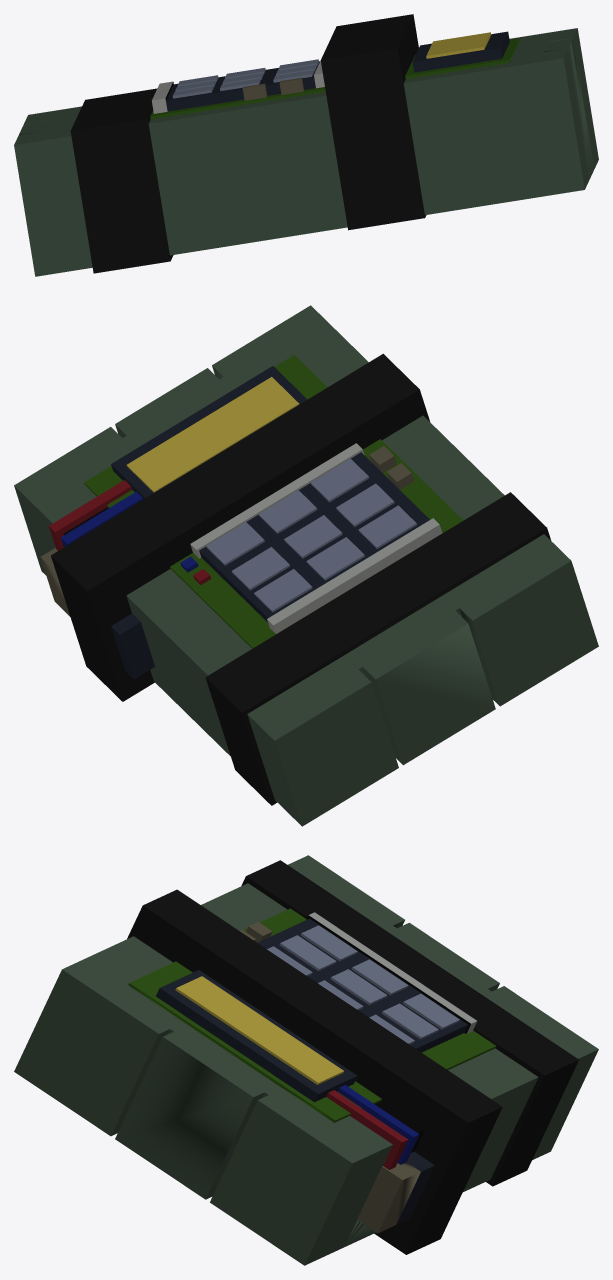
3 renders of one model, top to bottom at view 1: azimuth 30°, elevation 25°; view 2: azimuth 150°, elevation 25°; view 3: azimuth 270°, elevation 25°, orthographic. The views are drawn at different scales.
Parts seen in each view (by area): view 1: L_Arm.001; view 2: L_Arm.001; view 3: L_Arm.001.
Part boxes in pixels (bbox=[...]): L_Arm.001: bbox=[14, 14, 598, 276]; L_Arm.001: bbox=[14, 305, 598, 826]; L_Arm.001: bbox=[14, 855, 598, 1265].
Size of the model in its own units: 124 by 65.57 by 114.
